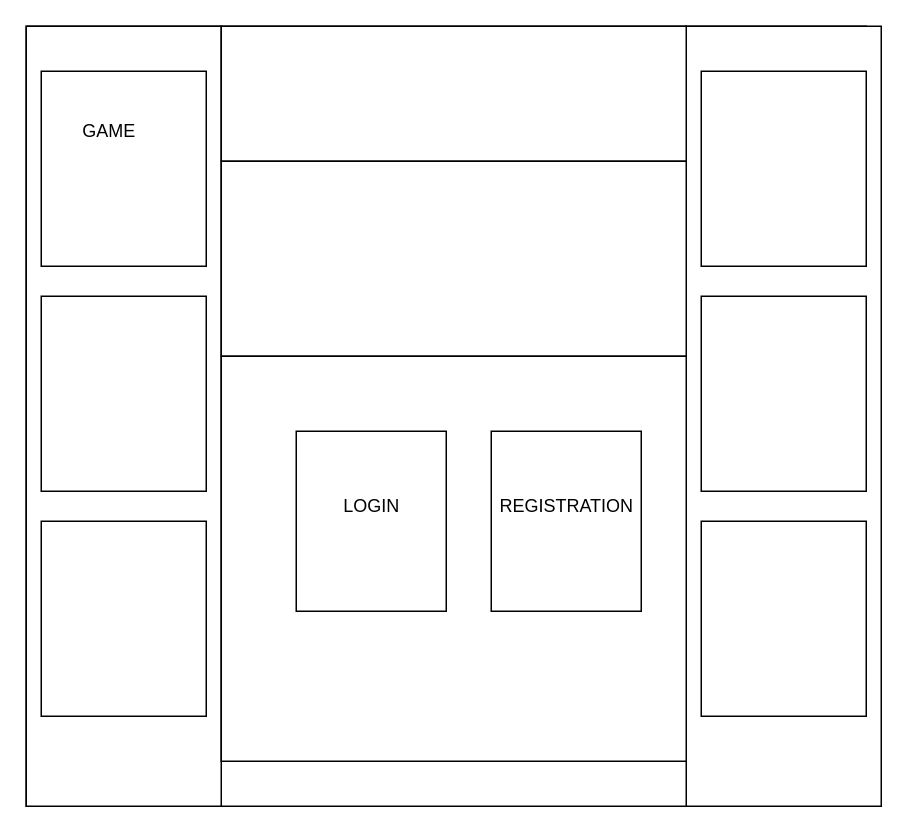
This 908x833 diagram has some shape labels left out. Each missing label, with the box of its shape:
IMAGE LOGO: (220, 25, 686, 161)
INFO: (220, 160, 686, 356)
